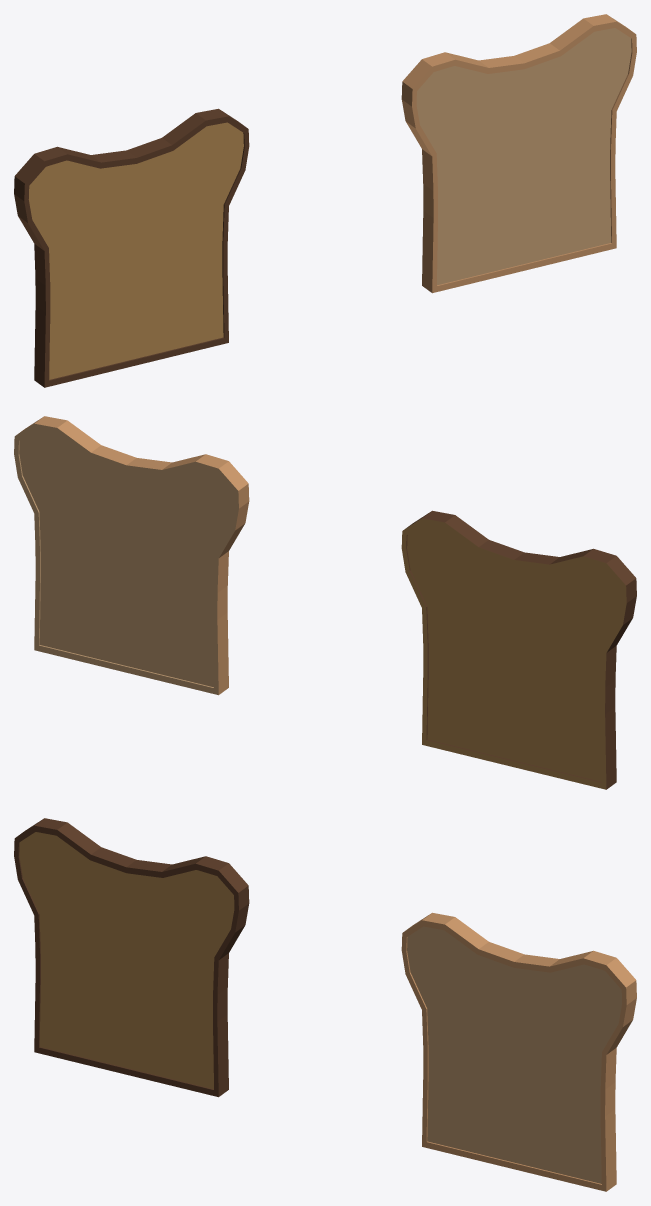
Rendered from toast.fbx.
The picture shows the model from 3 angles, top to bottom: view 1: azimuth 30°, elevation 25°; view 2: azimuth 150°, elevation 25°; view 3: azimuth 330°, elevation 25°; orthographic projection.
Visible parts, largest first — view 1: Cube, Cube.001; view 2: Cube, Cube.001; view 3: Cube.001, Cube.
Part boxes in pixels (x1,y1,x2,y2): Cube: (14, 108, 249, 387); Cube.001: (401, 14, 636, 293); Cube: (401, 510, 636, 789); Cube.001: (14, 416, 249, 695); Cube.001: (401, 912, 636, 1191); Cube: (14, 818, 249, 1097).
Bounding box in the file's own units: 530 × 188 × 15.42.
